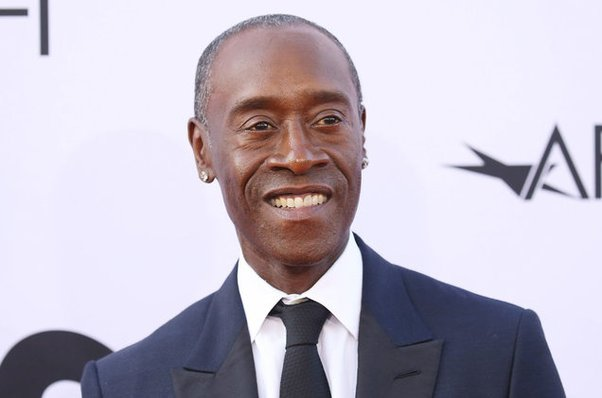person: (185, 13, 367, 268)
